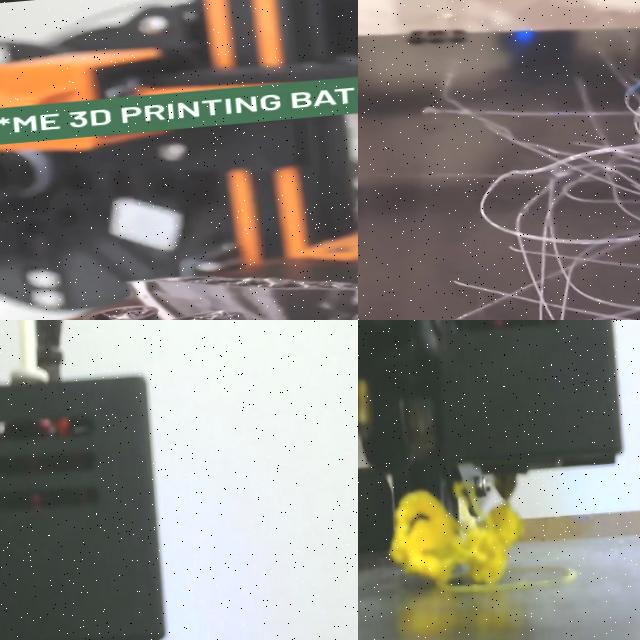spaghetti: (433, 33, 640, 320), (389, 481, 523, 584)
